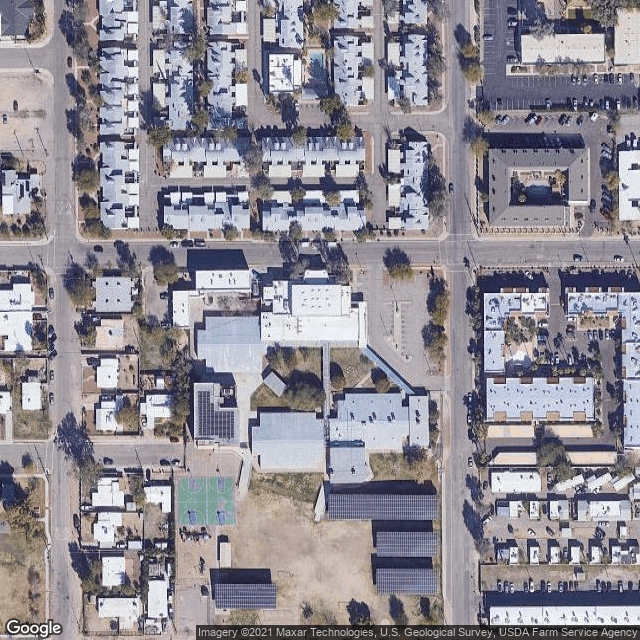carport-fixed: (329, 495, 436, 521), (213, 583, 277, 609), (376, 566, 440, 592), (373, 530, 437, 556)
rooftop-fixed: (194, 386, 238, 440)
